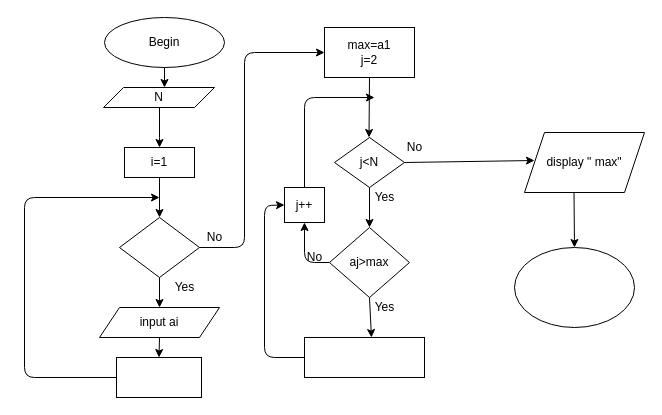
Image size: 662x415. Some labels were removed from this diagram. Each missing label, with the box of its shape:
End: (514, 246, 634, 328)
i++: (116, 356, 202, 398)
i<N: (118, 216, 200, 278)
max=aj: (304, 336, 424, 378)
